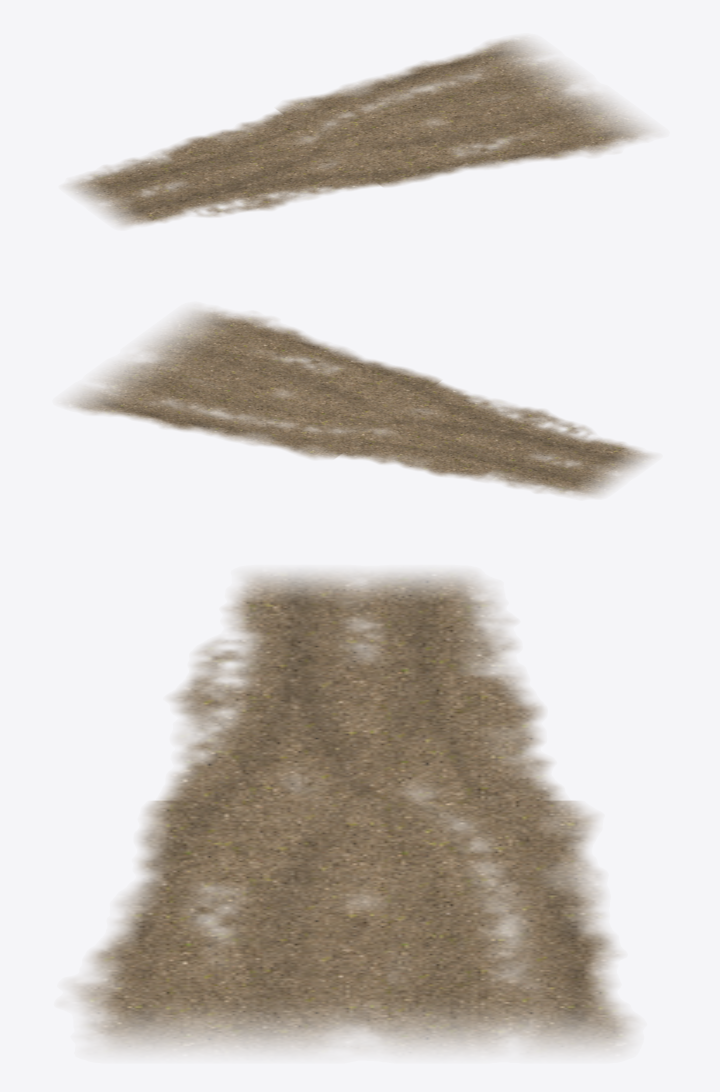
Rendered from road_line_street_drive.glb.
The picture shows the model from 3 angles, top to bottom: view 1: azimuth 30°, elevation 25°; view 2: azimuth 150°, elevation 25°; view 3: azimuth 270°, elevation 25°; orthographic projection. The views are drawn at different scales.
Parts seen in each view (by area): view 1: road_line_street_drive; view 2: road_line_street_drive; view 3: road_line_street_drive.
Boxes of the visible parts, box(x1,y1,x2,y2) form: road_line_street_drive: box(66, 37, 652, 226); road_line_street_drive: box(64, 308, 652, 496); road_line_street_drive: box(70, 572, 634, 1052).
Bounding box in the file's own units: 14.33 × 0 × 8.
Materials: 1 (1 with a texture image).
